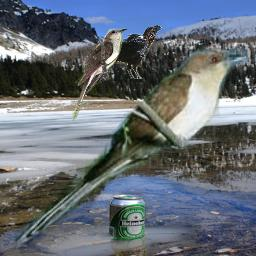Crow: (92, 25, 162, 79)
Cuckoo: (9, 46, 254, 254), (72, 28, 127, 121)
